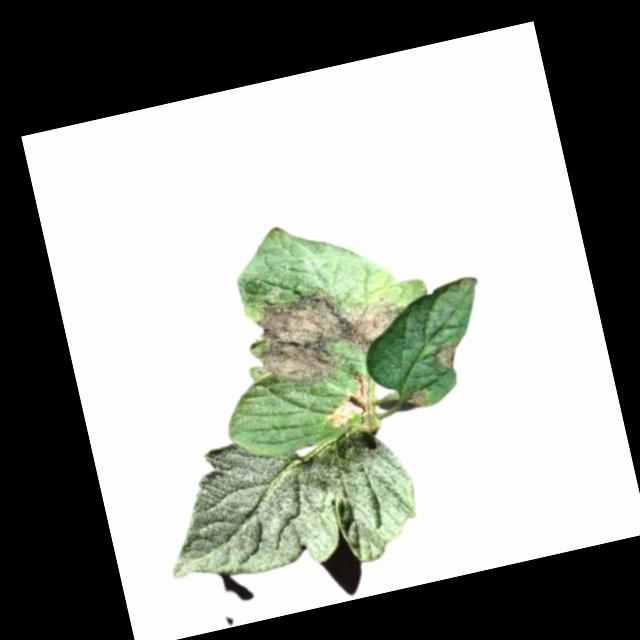Late_blight: (231, 269, 417, 397), (317, 369, 378, 430), (429, 335, 465, 372), (402, 386, 429, 410)
healthy: (146, 406, 429, 604)
